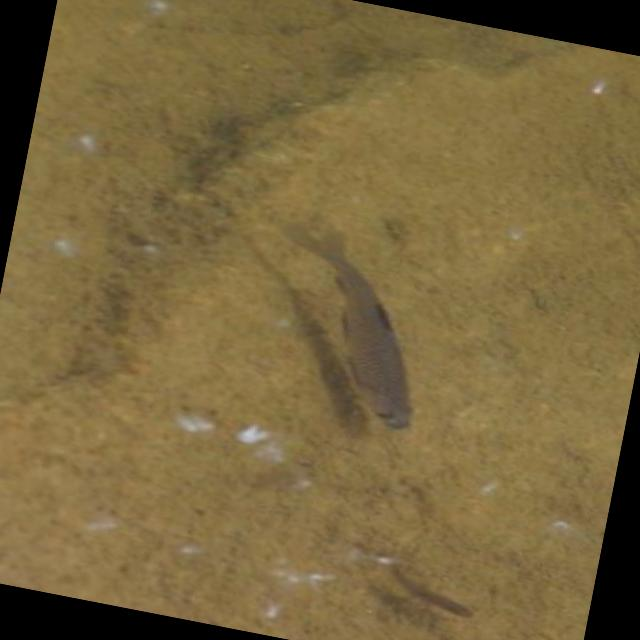Cakil Baligi: (251, 219, 450, 435)
